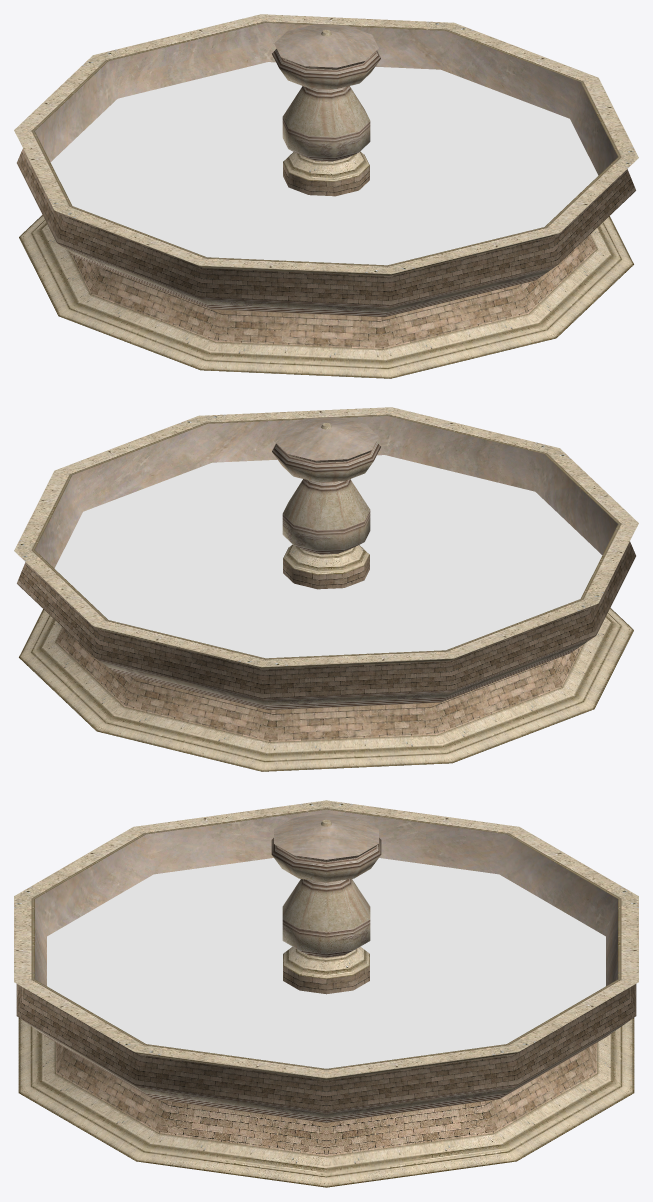
File: mun_all_imprv_fountain_sm_s01_l0.fbx
3 renders of one model, top to bottom at view 1: azimuth 30°, elevation 25°; view 2: azimuth 150°, elevation 25°; view 3: azimuth 270°, elevation 25°, orthographic. The views are drawn at different scales.
Parts seen in each view (by area): view 1: mesh_node; view 2: mesh_node; view 3: mesh_node.
Part boxes in pixels (x1,y1,x2,y2): mesh_node: (14,14,638,378); mesh_node: (14,407,638,771); mesh_node: (14,800,638,1187).
Size of the model in its own units: 8.08 by 3.11 by 7.69.
